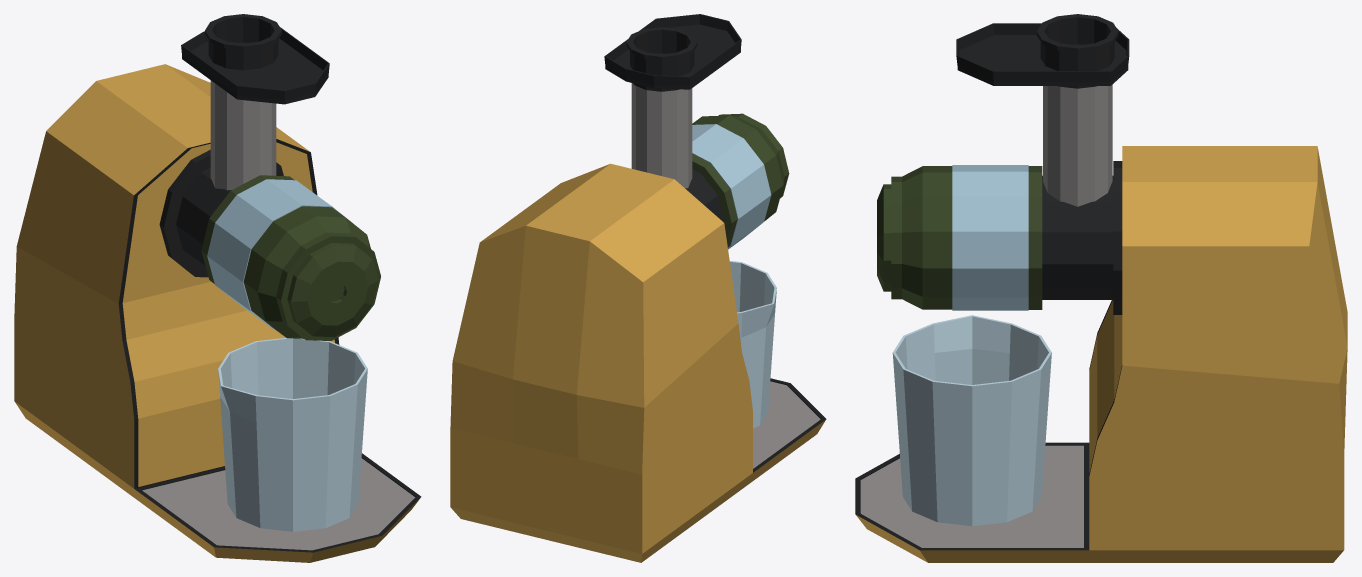
File: juicer_01_D.gltf
3 views of the same model, side by side, from view 1: azimuth 30°, elevation 25°; view 2: azimuth 150°, elevation 25°; view 3: azimuth 270°, elevation 25° (orthographic). The views are drawn at different scales.
Parts seen in each view (by area): view 1: juicer_01_D, Glassforjuicer_01_D; view 2: juicer_01_D, Glassforjuicer_01_D; view 3: juicer_01_D, Glassforjuicer_01_D.
Boxes of the visible parts, bbox=[...] form: juicer_01_D: bbox=[14, 14, 421, 562]; Glassforjuicer_01_D: bbox=[218, 338, 367, 531]; juicer_01_D: bbox=[450, 14, 826, 562]; Glassforjuicer_01_D: bbox=[729, 261, 776, 428]; juicer_01_D: bbox=[855, 14, 1347, 562]; Glassforjuicer_01_D: bbox=[892, 315, 1051, 526].
Bounding box in the file's own units: 0.228 × 0.4748 × 0.4404.
Materials: 1 (1 with a texture image).
